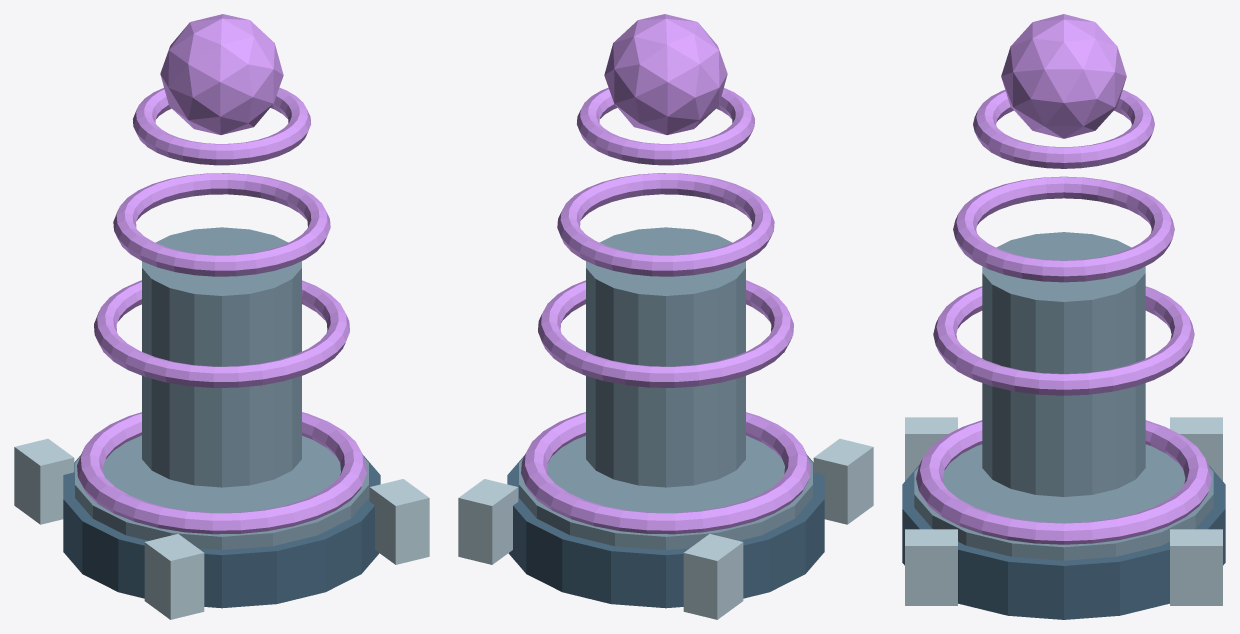
The model's file is quantum_spire.glb.
3 renders of one model, left to right at view 1: azimuth 30°, elevation 25°; view 2: azimuth 150°, elevation 25°; view 3: azimuth 270°, elevation 25°, orthographic.
Parts seen in each view (by area): view 1: energy_column_7, pedestal_0, armor_ring_1, emitter_sphere_11, energy_ring_2, power_coil_9, power_coil_8, power_coil_10, bolt_5, bolt_6, bolt_3; view 2: energy_column_7, pedestal_0, armor_ring_1, emitter_sphere_11, energy_ring_2, power_coil_9, power_coil_8, power_coil_10, bolt_3, bolt_4, bolt_5; view 3: energy_column_7, pedestal_0, armor_ring_1, emitter_sphere_11, energy_ring_2, power_coil_9, power_coil_8, power_coil_10, bolt_4, bolt_6, bolt_3, bolt_5.
Part boxes in pixels (left/top/right/bottom): energy_column_7: left=142, top=227, right=301, bottom=487; pedestal_0: left=63, top=455, right=380, bottom=608; armor_ring_1: left=75, top=435, right=368, bottom=549; emitter_sphere_11: left=160, top=14, right=283, bottom=134; energy_ring_2: left=77, top=412, right=366, bottom=534; power_coil_9: left=113, top=173, right=330, bottom=276; power_coil_8: left=94, top=280, right=349, bottom=387; power_coil_10: left=133, top=87, right=310, bottom=165; bolt_5: left=144, top=534, right=204, bottom=619; bolt_6: left=369, top=479, right=429, bottom=564; bolt_3: left=14, top=438, right=74, bottom=524; energy_column_7: left=586, top=227, right=745, bottom=487; pedestal_0: left=507, top=455, right=824, bottom=608; armor_ring_1: left=519, top=435, right=812, bottom=549; emitter_sphere_11: left=604, top=14, right=727, bottom=134; energy_ring_2: left=521, top=412, right=810, bottom=534; power_coil_9: left=557, top=173, right=774, bottom=276; power_coil_8: left=538, top=280, right=793, bottom=387; power_coil_10: left=577, top=87, right=754, bottom=165; bolt_3: left=683, top=534, right=743, bottom=619; bolt_4: left=458, top=479, right=518, bottom=564; bolt_5: left=813, top=438, right=873, bottom=524; energy_column_7: left=982, top=232, right=1145, bottom=496; pedestal_0: left=902, top=465, right=1225, bottom=619; armor_ring_1: left=914, top=444, right=1213, bottom=560; emitter_sphere_11: left=1001, top=14, right=1126, bottom=138; energy_ring_2: left=916, top=420, right=1211, bottom=544; power_coil_9: left=953, top=176, right=1174, bottom=282; power_coil_8: left=933, top=286, right=1194, bottom=395; power_coil_10: left=973, top=90, right=1154, bottom=168; bolt_4: left=1170, top=529, right=1222, bottom=605; bolt_6: left=905, top=529, right=957, bottom=605; bolt_3: left=1170, top=417, right=1222, bottom=480; bolt_5: left=905, top=417, right=957, bottom=480.
Size of the model in its own units: 0.9916 by 1.77 by 0.9765.
